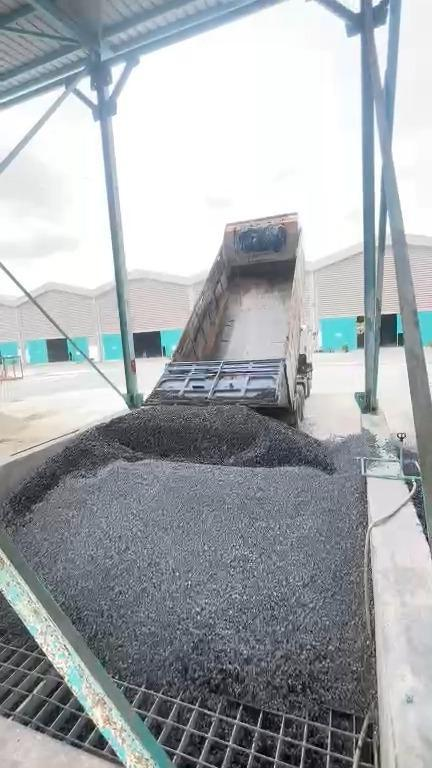gravel: (10, 427, 384, 722), (5, 406, 336, 519), (1, 595, 48, 660), (414, 481, 427, 536), (404, 446, 419, 475)
sand: (1, 411, 43, 456)
